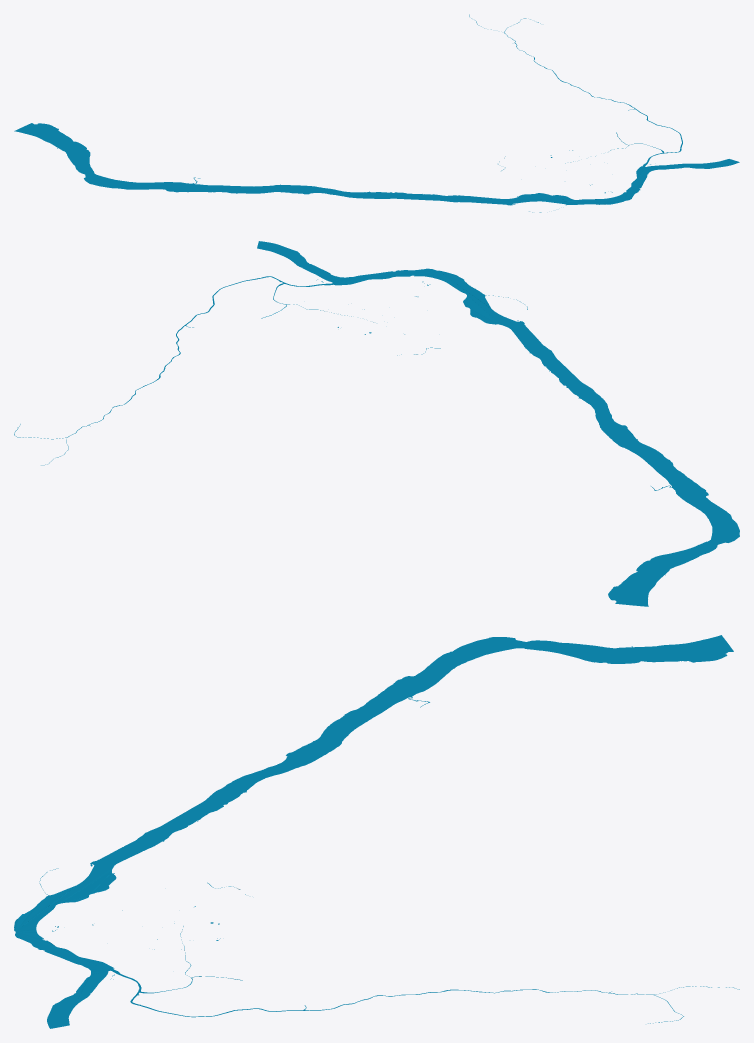
The model's file is water.glb.
The picture shows the model from 3 angles, top to bottom: view 1: azimuth 30°, elevation 25°; view 2: azimuth 150°, elevation 25°; view 3: azimuth 270°, elevation 25°; orthographic projection. The views are drawn at different scales.
Parts seen in each view (by area): view 1: water; view 2: water; view 3: water.
Boxes of the visible parts, left/top/right/bottom form: water: left=14, top=14, right=739, bottom=212; water: left=14, top=241, right=739, bottom=606; water: left=14, top=635, right=739, bottom=1028.
Size of the model in its own units: 38385 by 122 by 29899.
